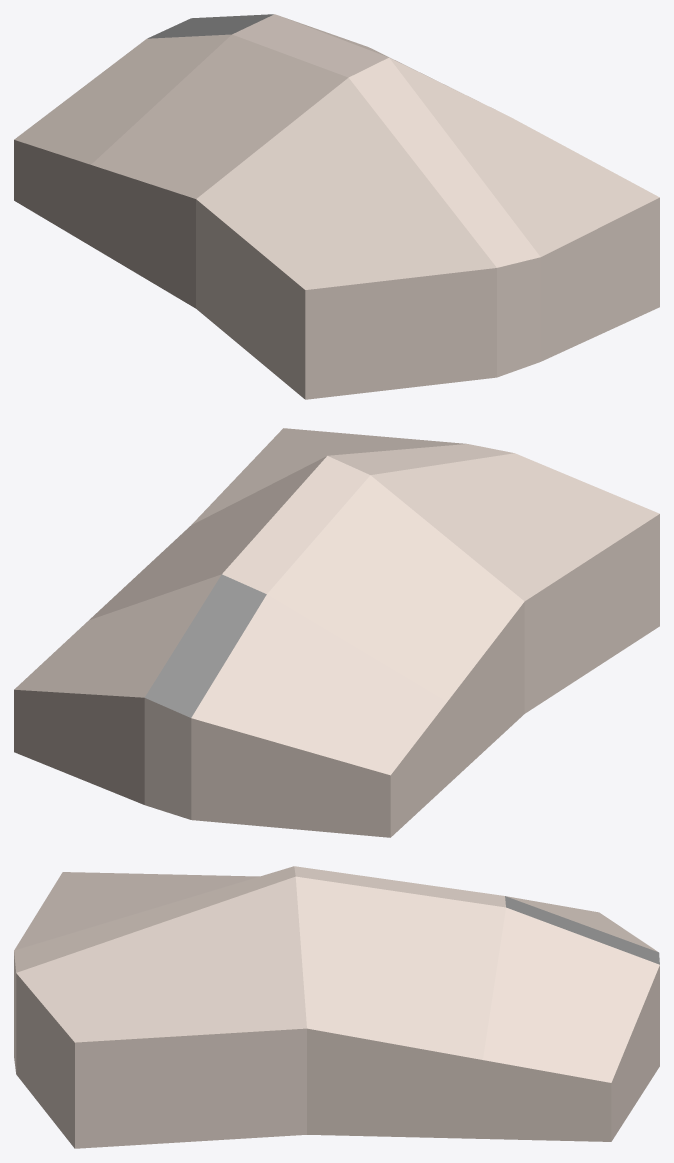
File: Mouse_3.fbx
3 views of the same model, one above another, from view 1: azimuth 30°, elevation 25°; view 2: azimuth 150°, elevation 25°; view 3: azimuth 270°, elevation 25° (orthographic). The views are drawn at different scales.
Visible parts, largest first — view 1: Mouse_3; view 2: Mouse_3; view 3: Mouse_3.
Part boxes in pixels (left/top/right/bottom): Mouse_3: left=14, top=14, right=659, bottom=399; Mouse_3: left=14, top=428, right=659, bottom=837; Mouse_3: left=14, top=866, right=659, bottom=1148.
Size of the model in its own units: 12.61 by 19.4 by 6.56.
